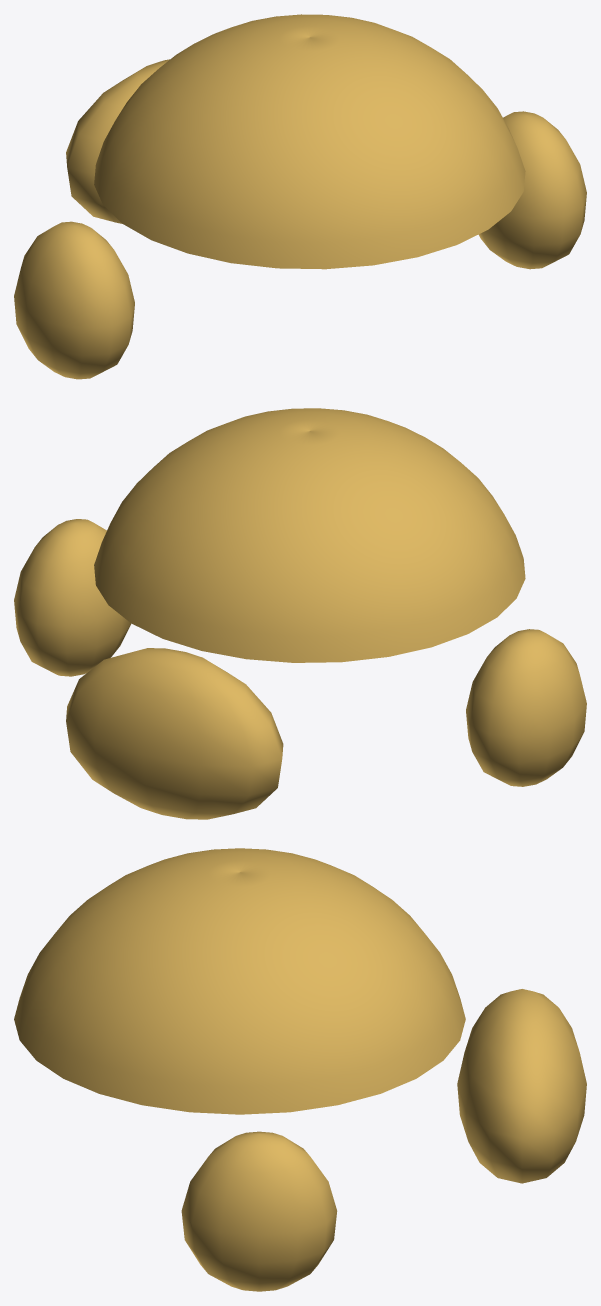
The model's file is ancient_princess_wig.glb.
The picture shows the model from 3 angles, top to bottom: view 1: azimuth 30°, elevation 25°; view 2: azimuth 150°, elevation 25°; view 3: azimuth 270°, elevation 25°; orthographic projection. The views are drawn at different scales.
Visible parts, largest first — view 1: ancient_princess_wig_Head; view 2: ancient_princess_wig_Head; view 3: ancient_princess_wig_Head.
Part boxes in pixels (x1,y1,x2,y2): ancient_princess_wig_Head: (14,14,586,379); ancient_princess_wig_Head: (14,408,586,819); ancient_princess_wig_Head: (14,848,586,1291).
Size of the model in its own units: 1.02 by 0.51 by 0.8833.
